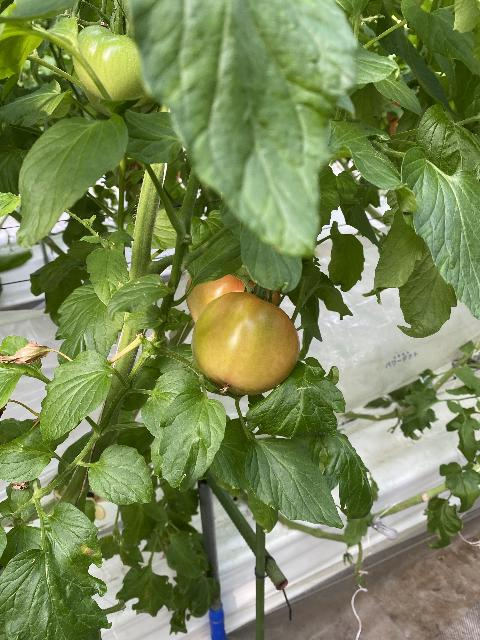b_green: (73, 24, 158, 107)
b_half_ripened: (190, 292, 300, 396), (186, 275, 281, 325)
